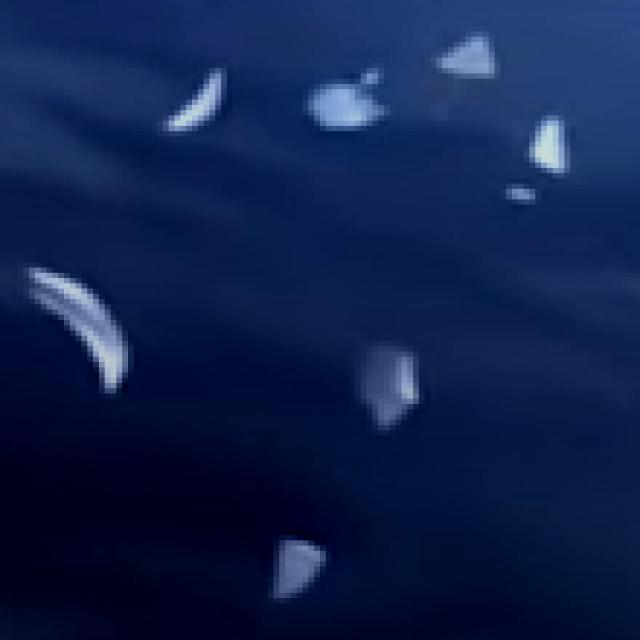medium_debris: (18, 263, 140, 397), (296, 59, 405, 150), (253, 516, 339, 616), (355, 335, 437, 439), (159, 53, 243, 154), (428, 22, 523, 98), (524, 110, 596, 175)
small_debris: (501, 184, 552, 209)
